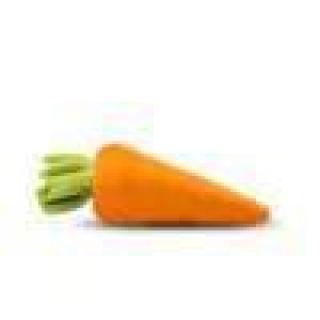Wortel: (23, 135, 273, 254)
